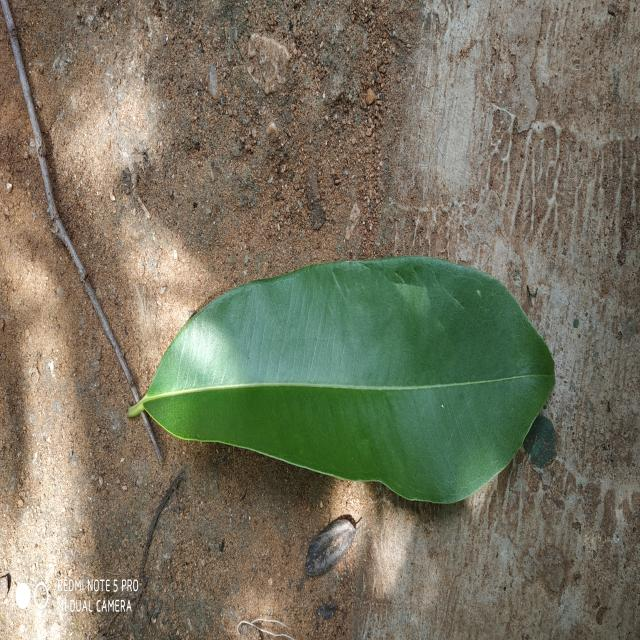nerale: (128, 258, 555, 504)
